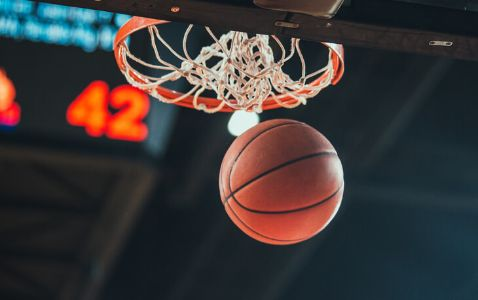baloncesto: (219, 119, 344, 246)
